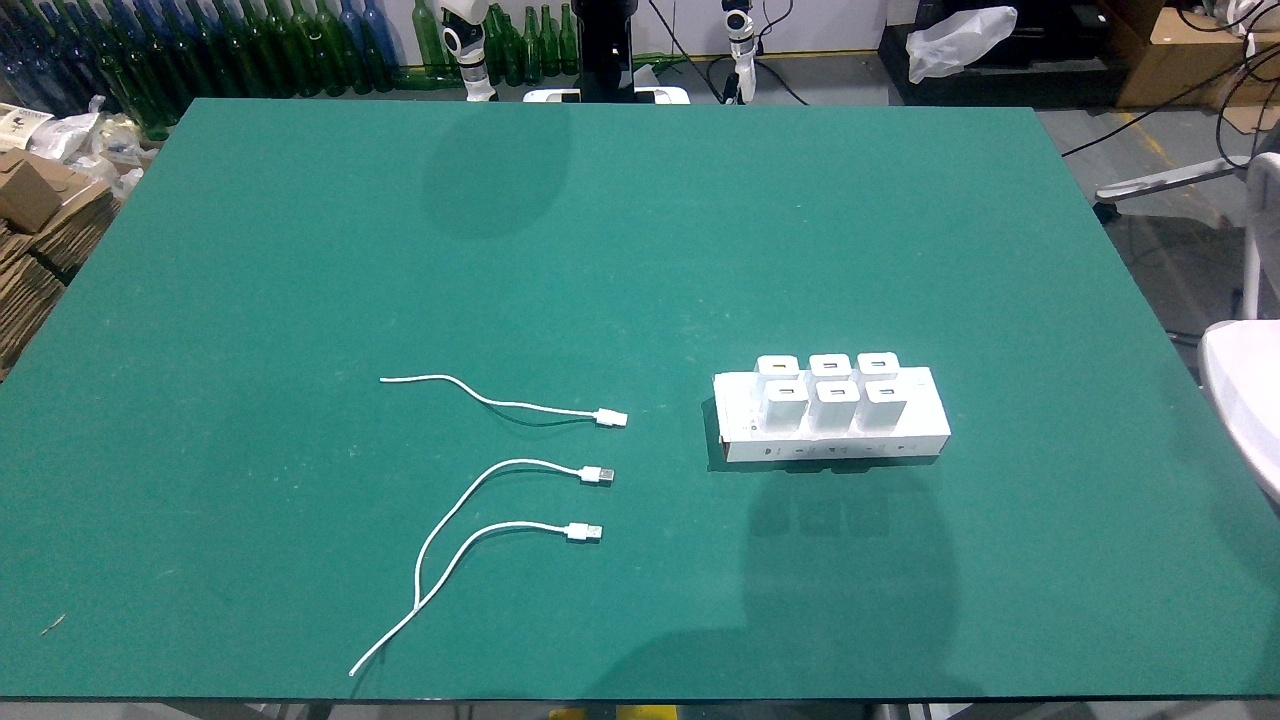usb_a_port: (770, 361, 791, 372), (876, 385, 895, 396), (869, 359, 888, 369), (828, 387, 847, 397), (820, 361, 840, 370), (777, 388, 799, 395)
